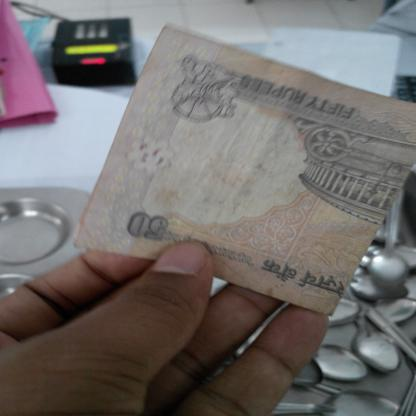Old50Back: (74, 22, 416, 317)
